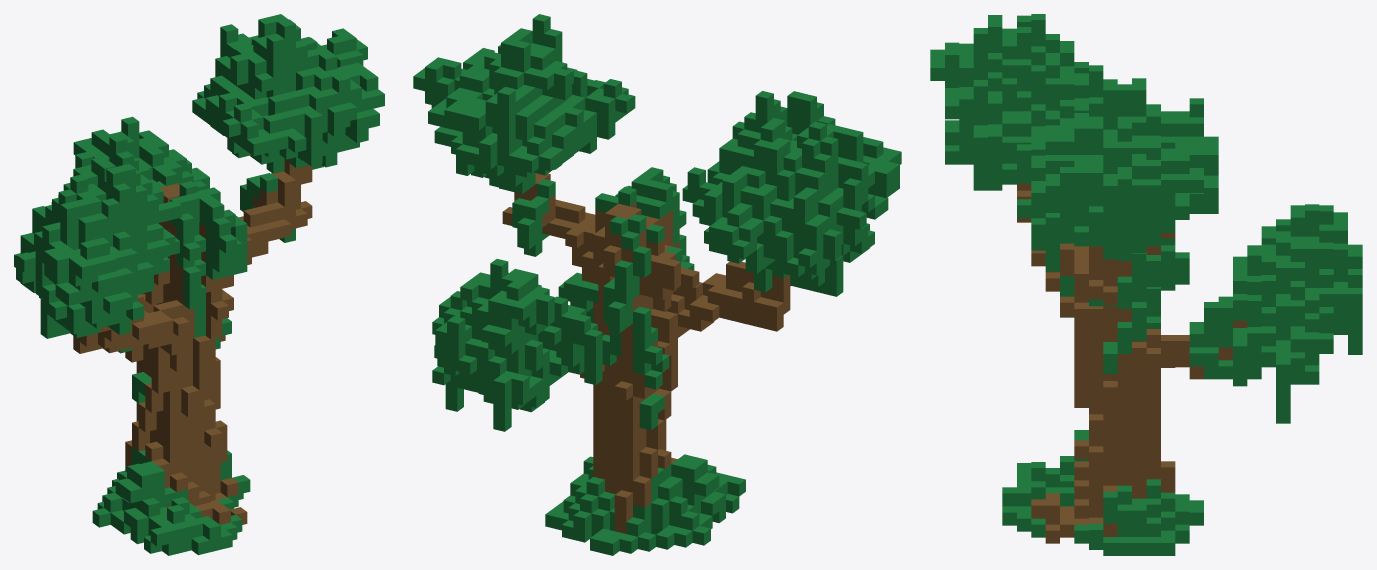
The model's file is Arbol_01.fbx.
The picture shows the model from 3 angles, left to right: view 1: azimuth 30°, elevation 25°; view 2: azimuth 150°, elevation 25°; view 3: azimuth 270°, elevation 25°; orthographic projection. The views are drawn at different scales.
Visible parts, largest first — view 1: _arbol01; view 2: _arbol01; view 3: _arbol01.
Part boxes in pixels (<box>): _arbol01: <box>14,14,384,555</box>; _arbol01: <box>413,14,901,555</box>; _arbol01: <box>930,14,1362,555</box>.
Bounding box in the file's own units: 340 × 390 × 300.
Materials: 1 (1 with a texture image).
